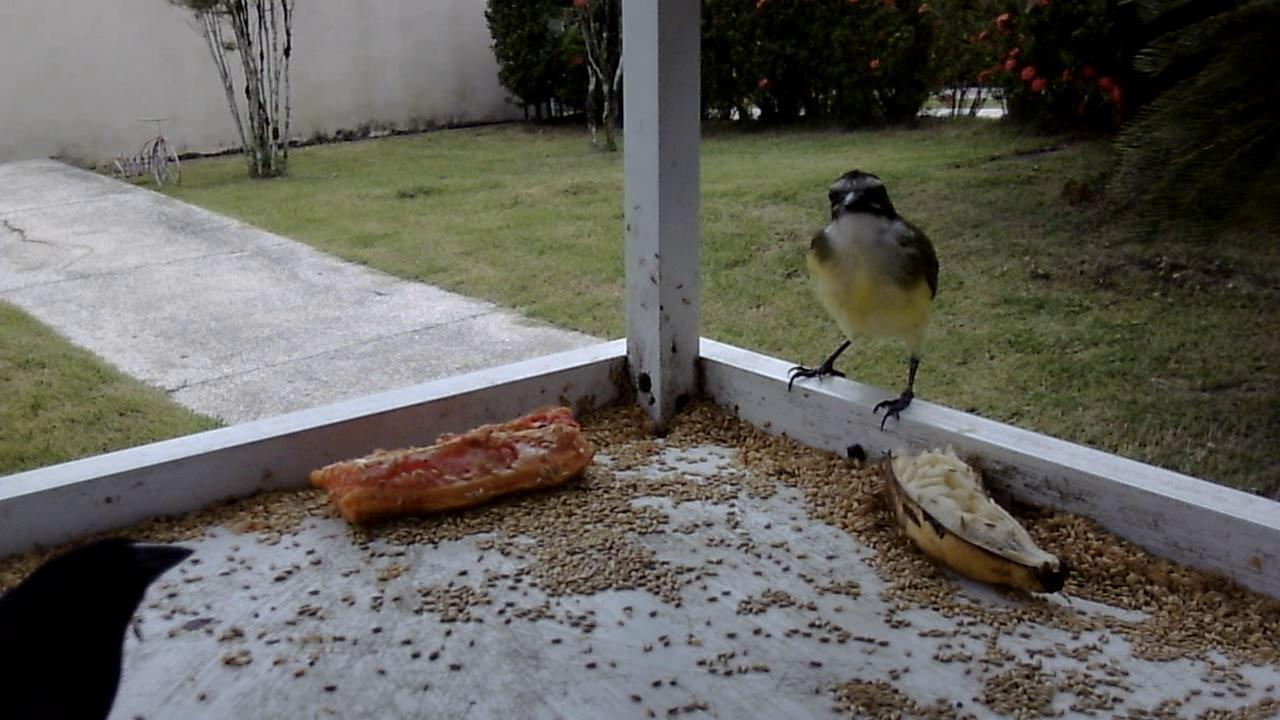bem_te_vi: (781, 167, 945, 431)
chupim: (1, 530, 203, 715)
